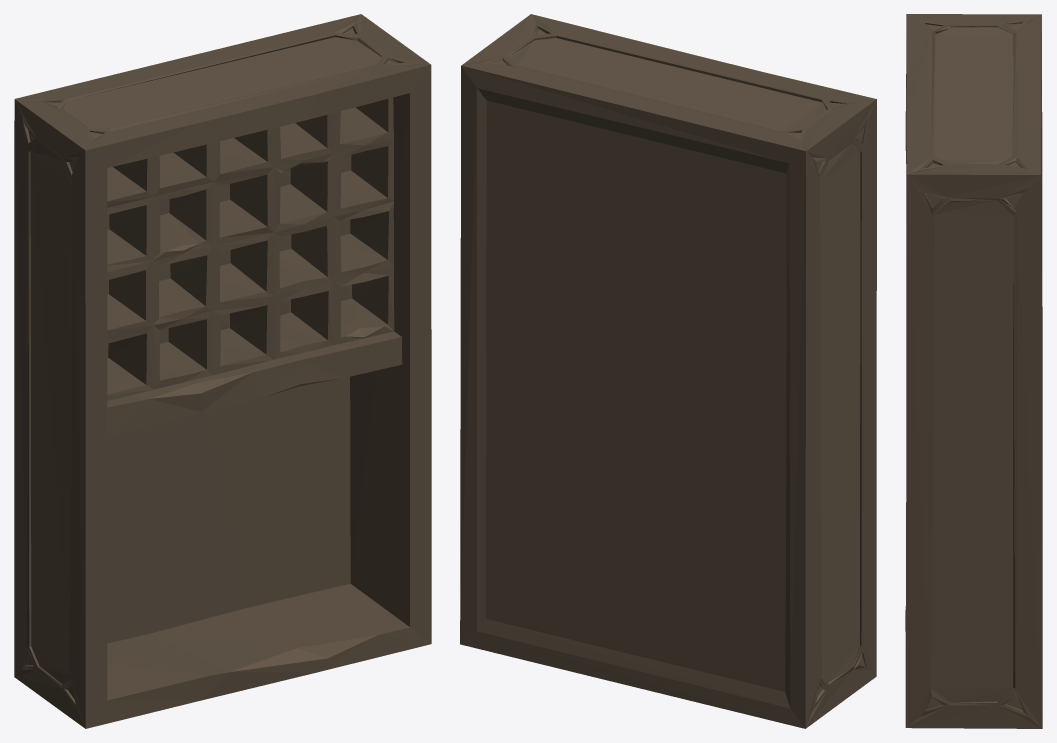
File: SFHW_Shelving_011.fbx
3 renders of one model, left to right at view 1: azimuth 30°, elevation 25°; view 2: azimuth 150°, elevation 25°; view 3: azimuth 270°, elevation 25°, orthographic. The views are drawn at different scales.
Visible parts, largest first — view 1: SFHW_Shelving_011; view 2: SFHW_Shelving_011; view 3: SFHW_Shelving_011.
Part boxes in pixels (<box>): SFHW_Shelving_011: <box>14,14,431,728</box>; SFHW_Shelving_011: <box>460,14,876,728</box>; SFHW_Shelving_011: <box>905,14,1042,728</box>.
Bounding box in the file's own units: 96.81 × 154 × 34.66.
